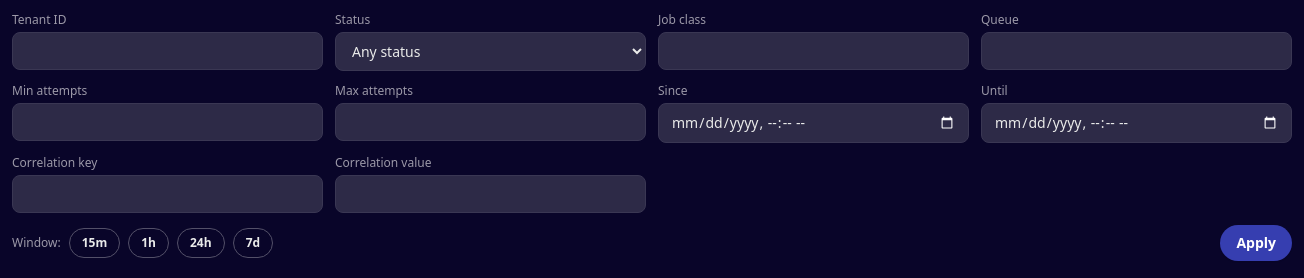
Scenario: FilterBuilder › fills since and until when a quick-pick window is chosen
Check: the field labelled "Since" is empty, box [658,103,969,143]
Check: the field labelled "Until" is empty, box [981,103,1292,143]
Click the button "24h".
click(201, 243)  # box [177,228,225,258]
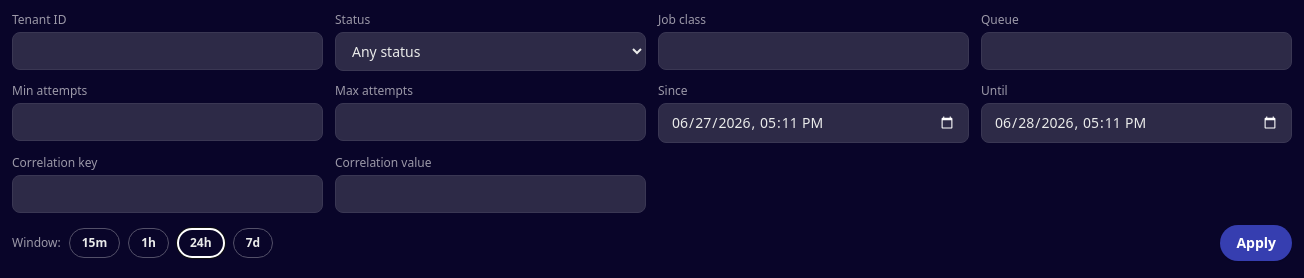
Check: the field labelled "Since" is not empty, box [658,103,969,143]
Check: the field labelled "Until" is not empty, box [981,103,1292,143]
